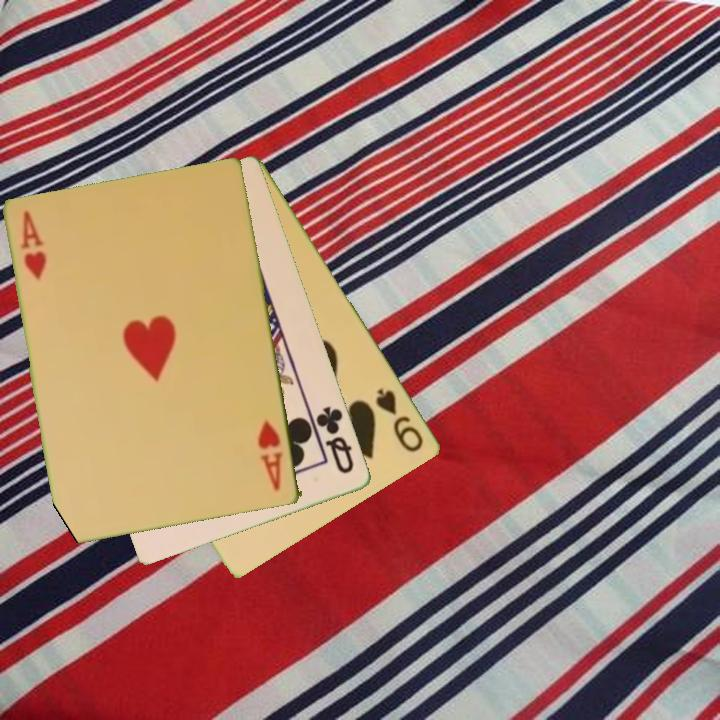9s: (372, 384, 428, 456)
Ah: (255, 417, 286, 494), (18, 207, 48, 283)
Qc: (313, 403, 357, 477)
